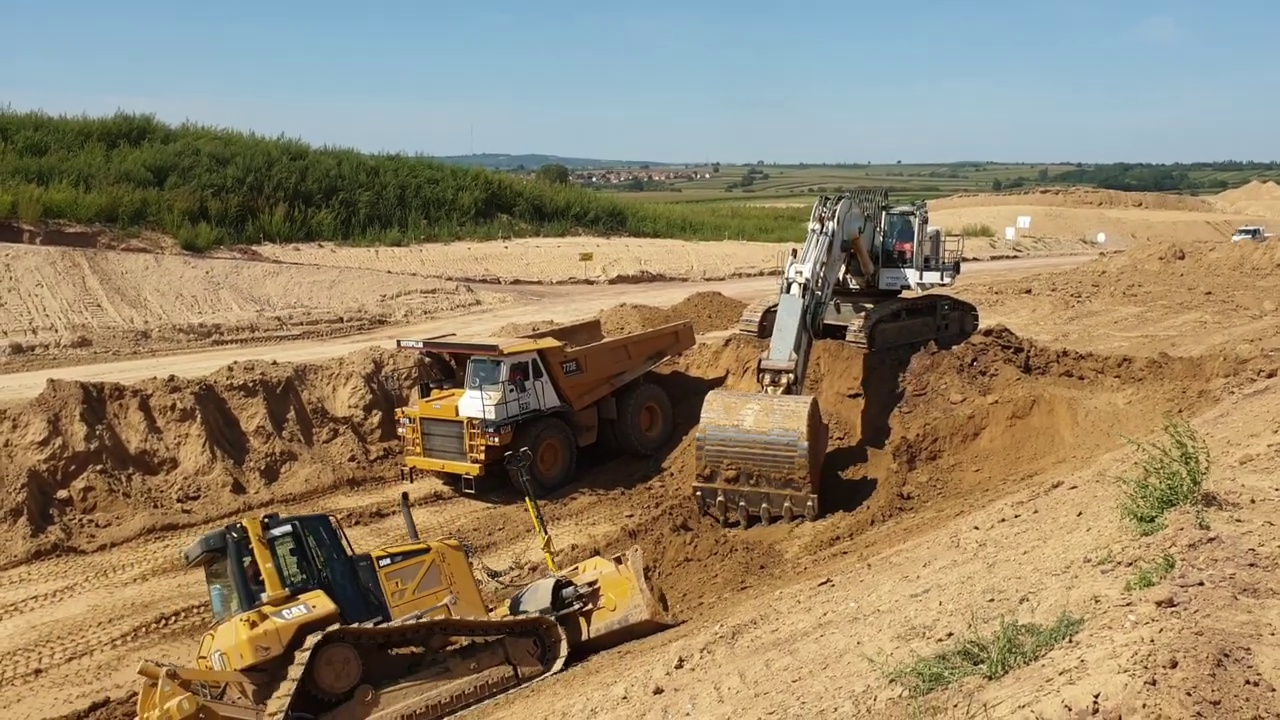bulldozer: (133, 447, 676, 720)
excavator: (695, 188, 983, 530)
truck: (398, 313, 698, 498), (1228, 221, 1280, 256)
